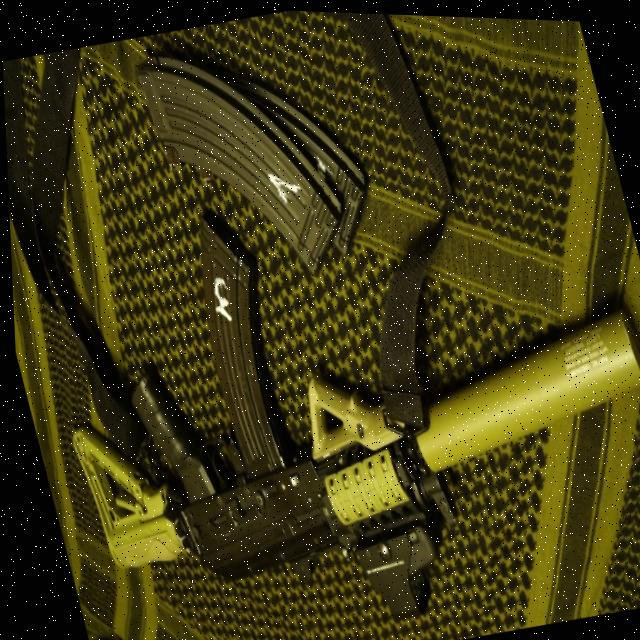firearm: (14, 122, 640, 640)
